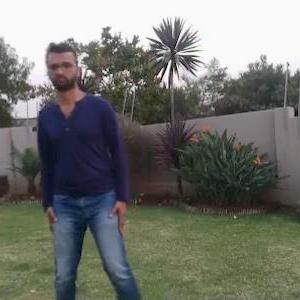follow: (32, 39, 134, 299)
